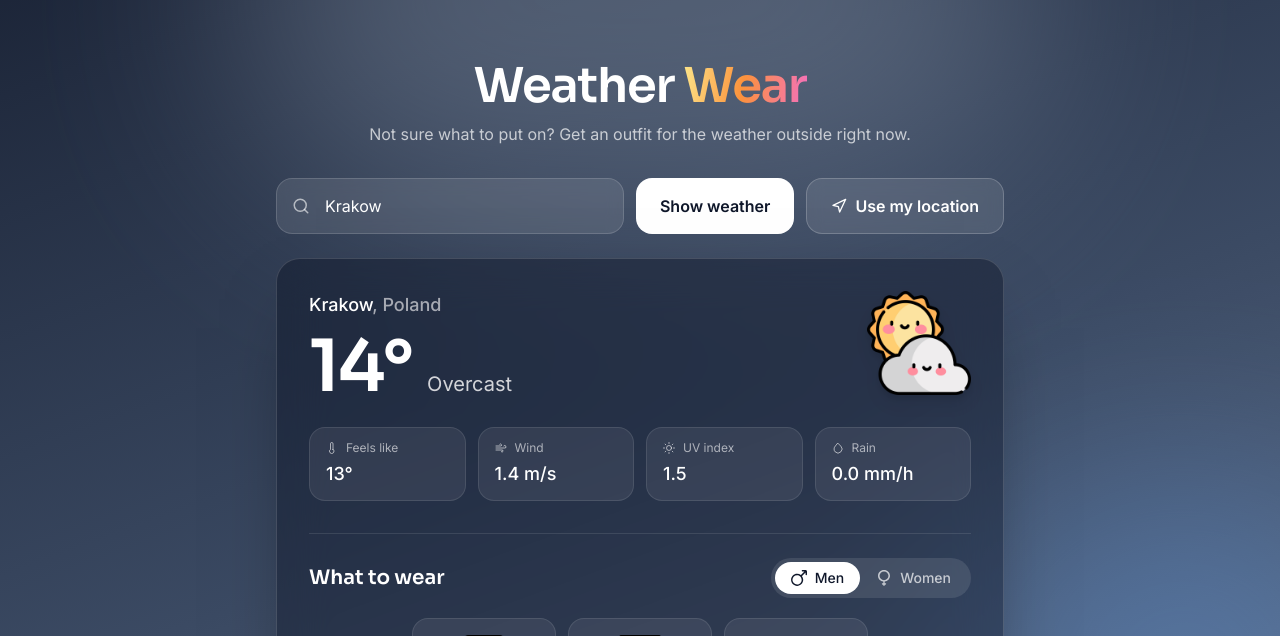
Test: searches for another city
Expected: the heading "Krakow, Poland" is shown, [309,294,441,315]
Replace the text in the field named "city" with "Oslo" at point(450, 206), box [276,178,624,234]
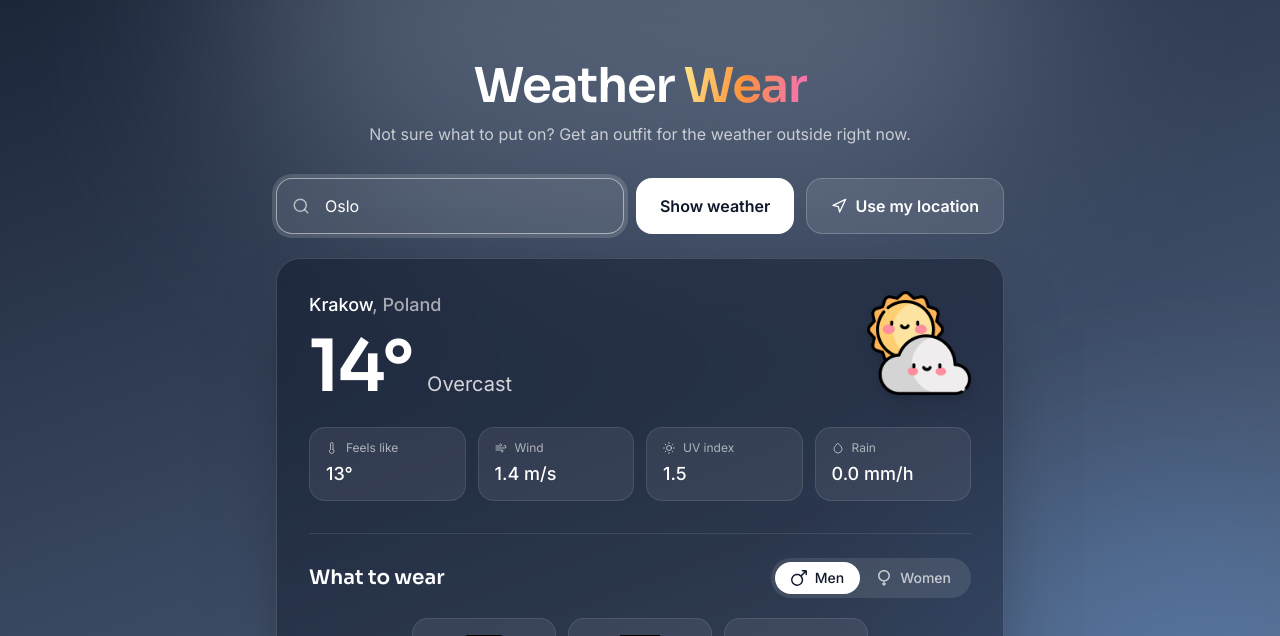
Click the button "Show weather" at point(715, 206), box [636,178,794,234]
(page scrolled)
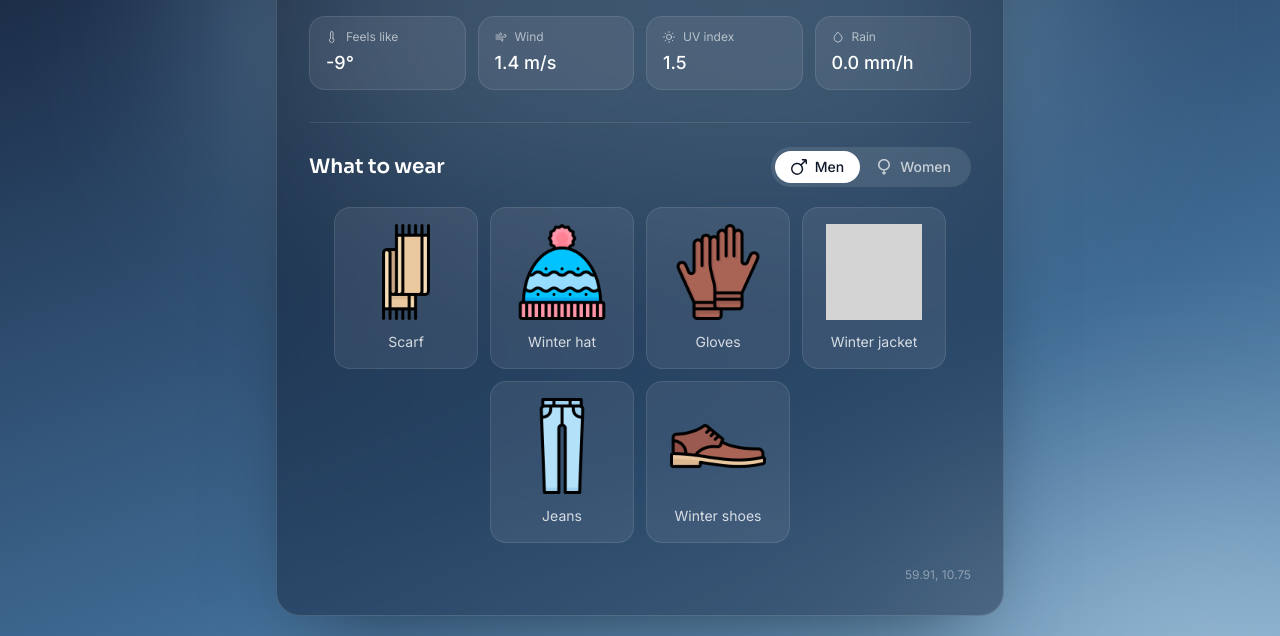
Expected: the text "Winter jacket" is shown, [831,332,917,352]
